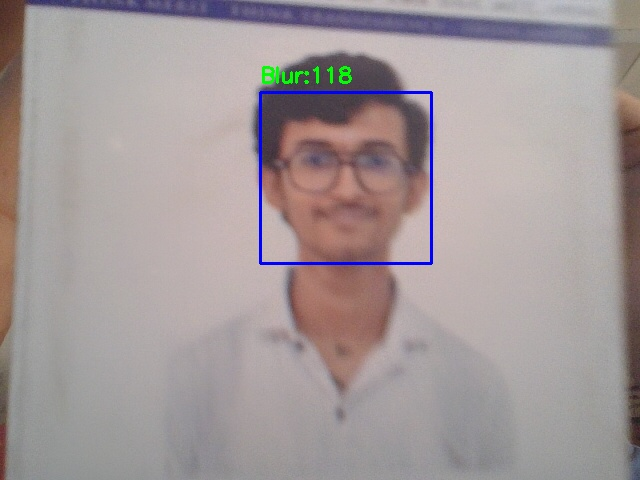fake: (260, 92, 431, 263)
